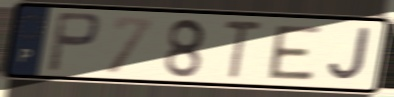7: (108, 14, 156, 76)
8: (163, 17, 206, 79)
E: (267, 23, 325, 83)
J: (325, 26, 372, 84)
P: (44, 10, 103, 75)
T: (222, 18, 265, 82)
